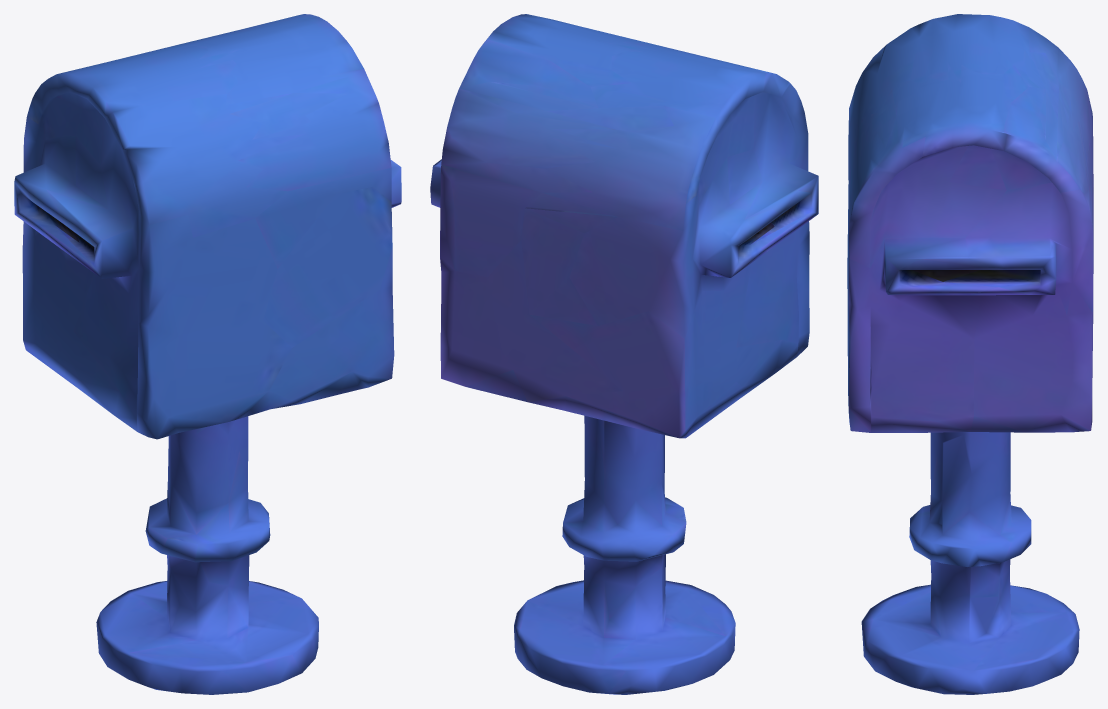
Rendered from mailbox.glb.
3 views of the same model, side by side, from view 1: azimuth 30°, elevation 25°; view 2: azimuth 150°, elevation 25°; view 3: azimuth 270°, elevation 25° (orthographic). The views are drawn at different scales.
Parts seen in each view (by area): view 1: tripo_node_586bd606-7a7a-4f4d-bc18-08d4b5da836f; view 2: tripo_node_586bd606-7a7a-4f4d-bc18-08d4b5da836f; view 3: tripo_node_586bd606-7a7a-4f4d-bc18-08d4b5da836f.
Boxes of the visible parts, left/top/right/bottom form: tripo_node_586bd606-7a7a-4f4d-bc18-08d4b5da836f: left=14, top=14, right=401, bottom=694; tripo_node_586bd606-7a7a-4f4d-bc18-08d4b5da836f: left=430, top=14, right=818, bottom=694; tripo_node_586bd606-7a7a-4f4d-bc18-08d4b5da836f: left=847, top=14, right=1093, bottom=694.
Bounding box in the file's own units: 0.5254 × 1 × 0.3825.
Materials: 1 (1 with a texture image).
